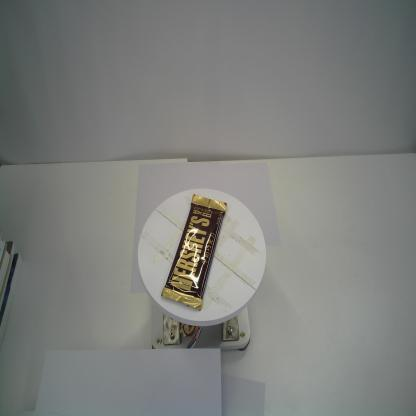Chocolate: (159, 193, 229, 314)
